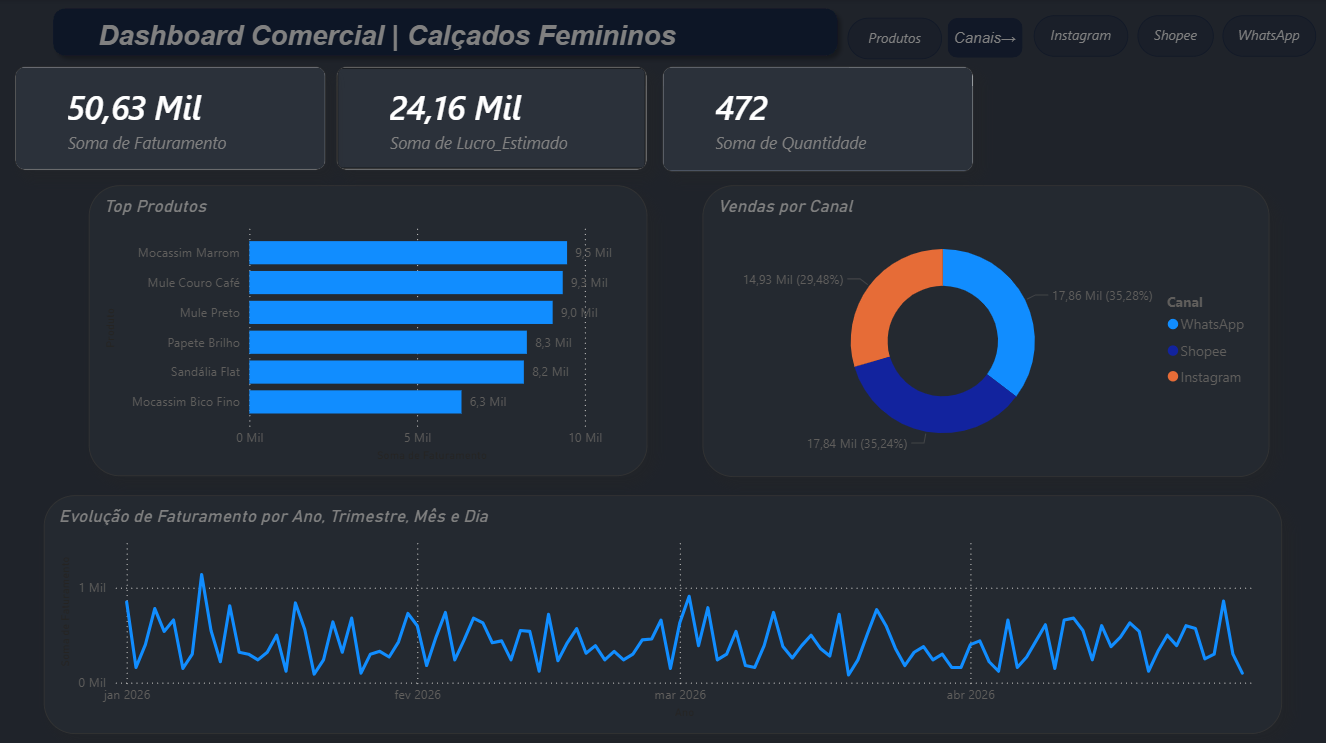

Layout of this report page (visuals, bound fields, positions):
{"tool":"powerbi","page":{"name":"Página 1","canvas":[1280,720],"ordinal":0},"visuals":[{"type":"barChart","title":"Top Produtos","fields":{"Category":["Vendas.Produto"],"Y":["Sum(Vendas.Faturamento)"]},"box":[85.7,179.8,539.3,281.1],"z":0},{"type":"donutChart","title":"Vendas por Canal","fields":{"Category":["Vendas.Canal"],"Y":["Sum(Vendas.Faturamento)"]},"box":[677.5,180,547.5,281.2],"z":1000},{"type":"lineChart","title":"Evolução de Faturamento por Ano, Trimestre, Mês e Dia","fields":{"Category":["Vendas.Data.Variation.Hierarquia de datas.Ano","Vendas.Data.Variation.Hierarquia de datas.Trimestre","Vendas.Data.Variation.Hierarquia de datas.Mês","Vendas.Data.Variation.Hierarquia de datas.Dia"],"Y":["Sum(Vendas.Faturamento)"]},"box":[42.2,479,1195.6,230.4],"z":2000},{"type":"cardVisual","fields":{"Data":["Sum(Vendas.Lucro_Estimado)"]},"box":[325,65,300,100],"z":3000},{"type":"cardVisual","fields":{"Data":["Sum(Vendas.Quantidade)"]},"box":[640,65,300,101.2],"z":4000},{"type":"shape","box":[42.5,0,775,63.8],"z":5000},{"type":"textbox","box":[77.5,16.2,600,47.5],"z":6000},{"type":"cardVisual","fields":{"Data":["Sum(Vendas.Faturamento)"]},"box":[15,65,300,100],"z":7000},{"type":"shape","box":[915,17.5,72.5,38.8],"z":9000},{"type":"actionButton","title":"Instagram","box":[997.5,16.2,91.2,40],"z":10000},{"type":"actionButton","title":"Instagram","box":[1097.5,16.2,73.8,40],"z":11000},{"type":"actionButton","title":"Instagram","box":[1180,16.2,90,40],"z":12000},{"type":"actionButton","title":"Instagram","box":[817.5,17.5,91.2,40],"z":12001}]}

Visuals, with their boxes in screenshot pixels (x1, y1, x2, y2), scaled from the page's 1280x720 canvas onto the 1326x743 screenshot:
"Top Produtos" barChart: bbox=(89, 186, 647, 476)
"Vendas por Canal" donutChart: bbox=(702, 186, 1269, 476)
"Evolução de Faturamento por Ano, Trimestre, Mês e Dia" lineChart: bbox=(44, 494, 1282, 732)
cardVisual - Sum(Vendas.Lucro_Estimado): bbox=(337, 67, 647, 170)
cardVisual - Sum(Vendas.Quantidade): bbox=(663, 67, 974, 172)
shape: bbox=(44, 0, 847, 66)
textbox: bbox=(80, 17, 702, 66)
cardVisual - Sum(Vendas.Faturamento): bbox=(16, 67, 326, 170)
shape: bbox=(948, 18, 1023, 58)
"Instagram" actionButton: bbox=(1033, 17, 1128, 58)
"Instagram" actionButton: bbox=(1137, 17, 1213, 58)
"Instagram" actionButton: bbox=(1222, 17, 1316, 58)
"Instagram" actionButton: bbox=(847, 18, 941, 59)
